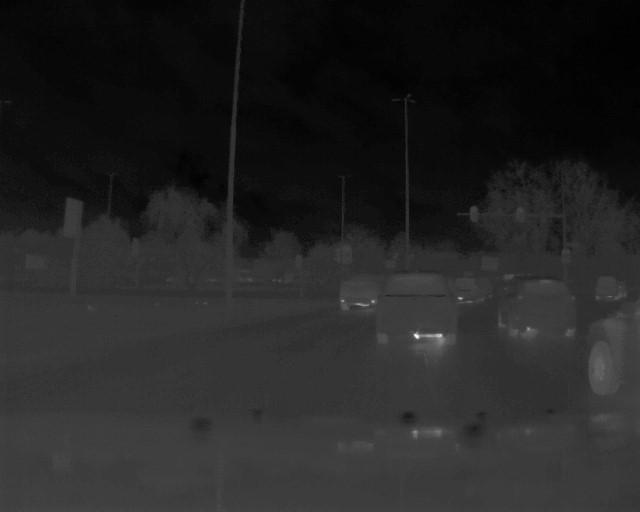car: (376, 273, 458, 348), (498, 277, 579, 344), (338, 268, 374, 313)
